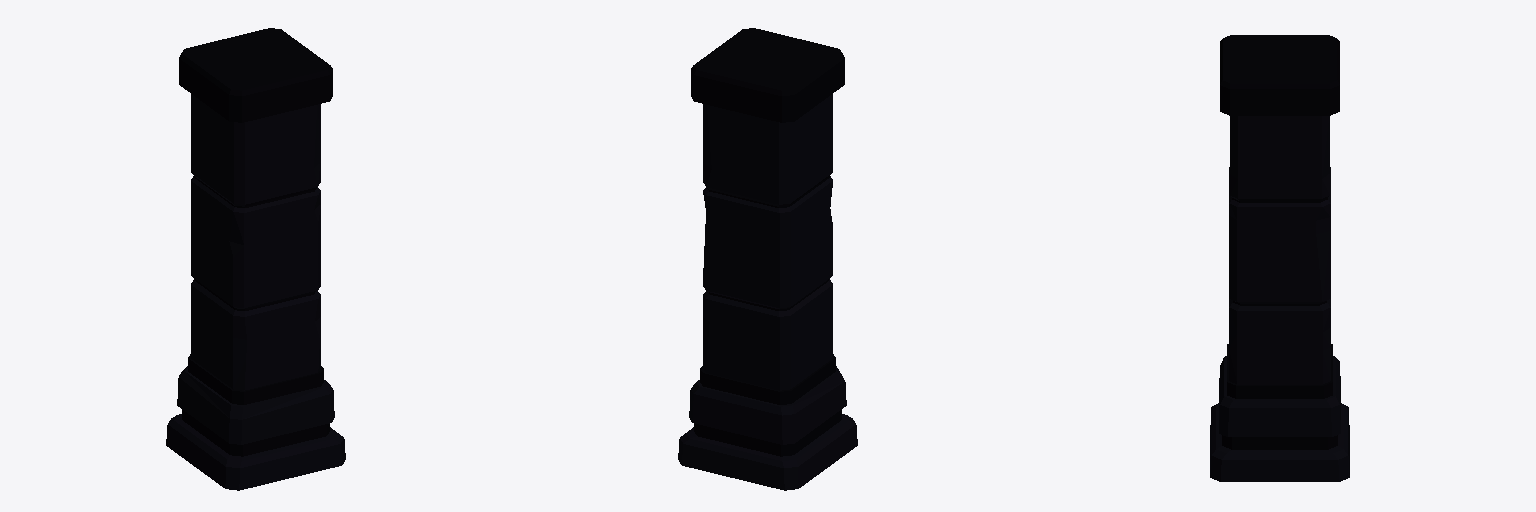
The model's file is Column.obj.
3 renders of one model, left to right at view 1: azimuth 30°, elevation 25°; view 2: azimuth 150°, elevation 25°; view 3: azimuth 270°, elevation 25°, orthographic.
Visible parts, largest first — view 1: Column; view 2: Column; view 3: Column.
Boxes of the visible parts, <box> form: Column: <box>166,28,345,490</box>; Column: <box>678,28,857,490</box>; Column: <box>1210,35,1349,481</box>.
Size of the model in its own units: 1.3 by 4.07 by 1.3.